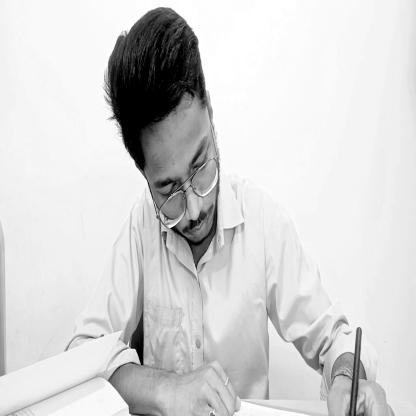Distracted: (107, 14, 219, 252)
